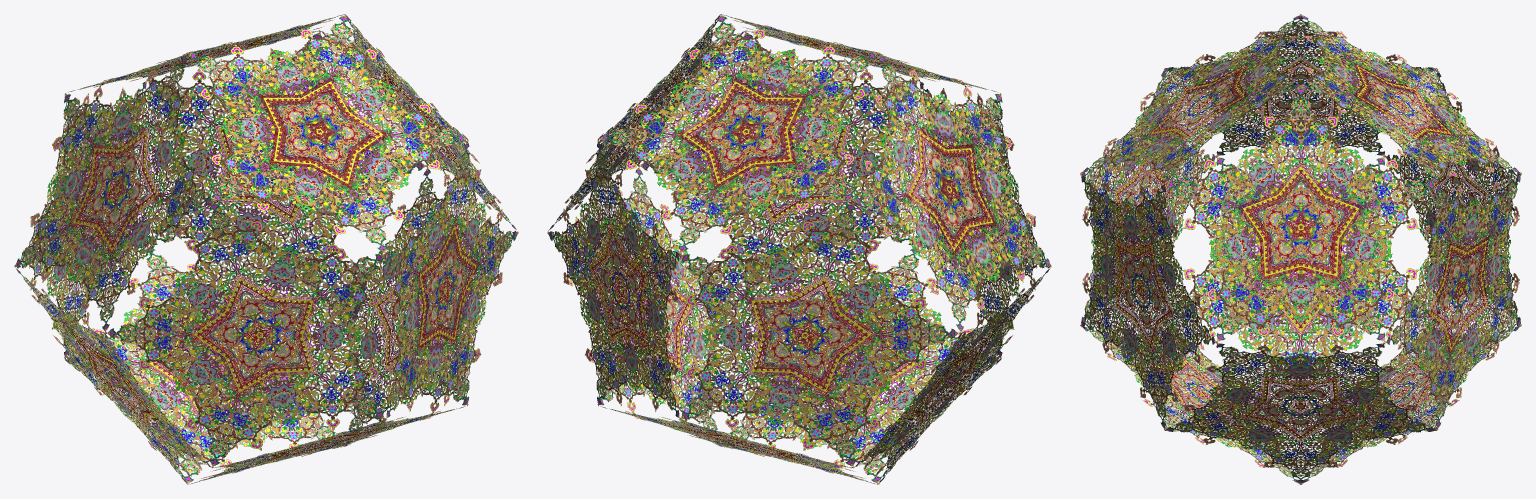
The model's file is Dodecahedron11.obj.
3 views of the same model, side by side, from view 1: azimuth 30°, elevation 25°; view 2: azimuth 150°, elevation 25°; view 3: azimuth 270°, elevation 25° (orthographic). The views are drawn at different scales.
Size of the model in its own units: 2.62 by 2.62 by 2.62.
1 material, 1 textured.
